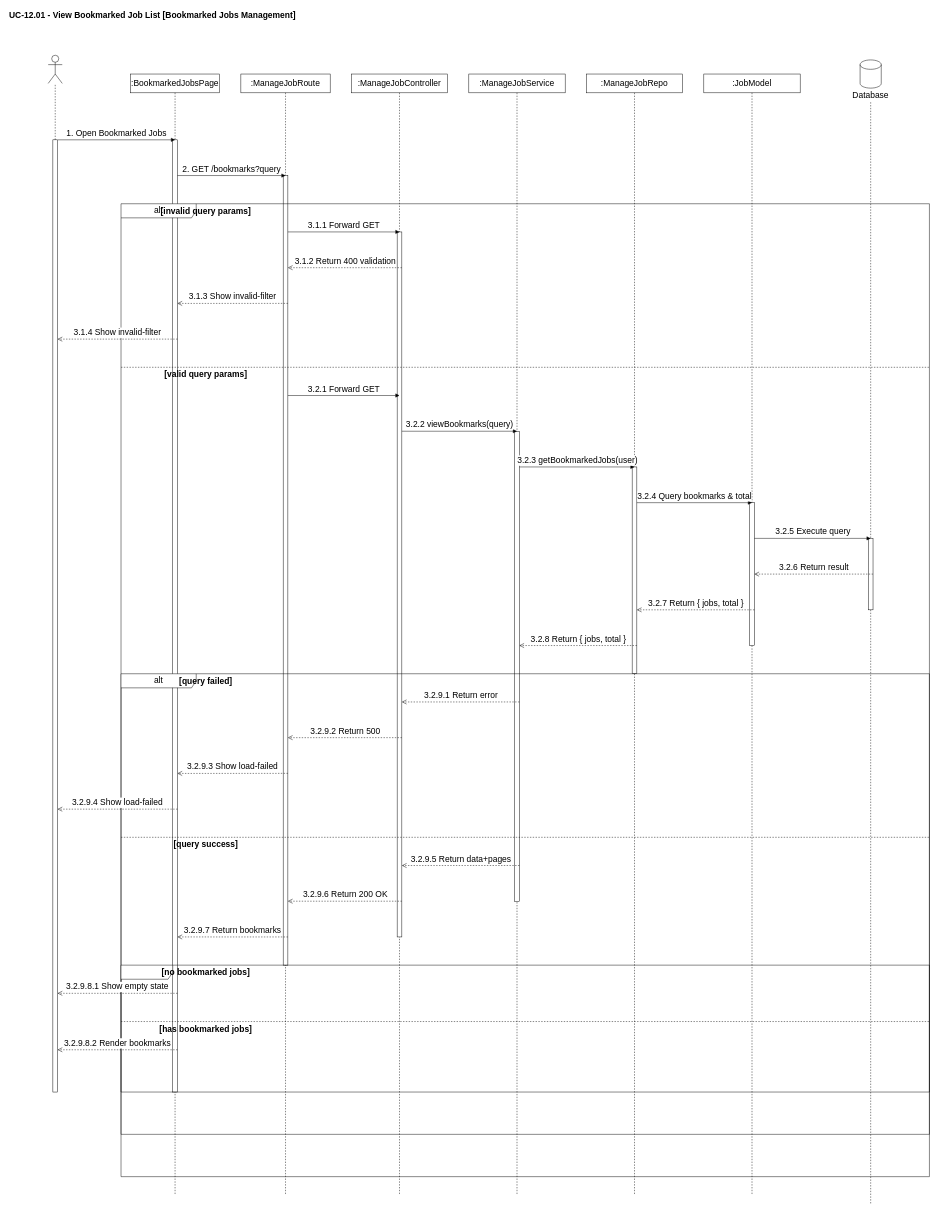
The diagram is 938 pixels wide and 1214 high, and some of its shapes have lost their labels. Here are the shapes that lost their labels. From the top down, the centre of each, then its label:
the point at 55,69: Freelancer
the point at 525,1028: opt
